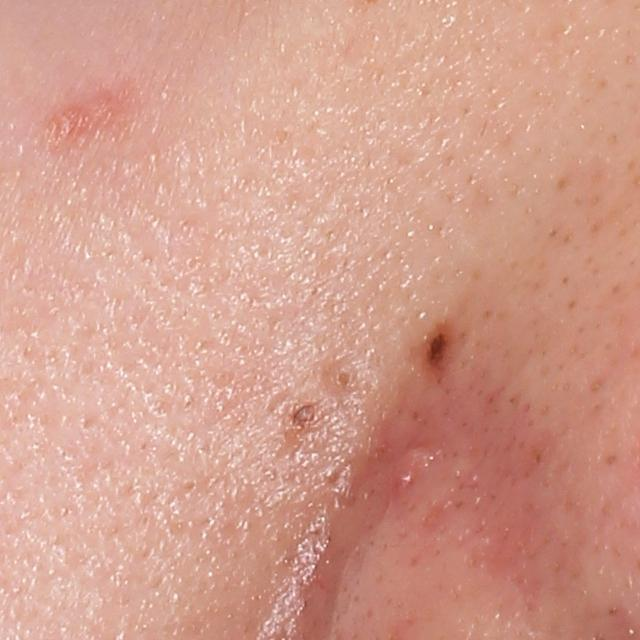comedo: (326, 359, 364, 398), (178, 476, 199, 493)
nevus: (426, 328, 448, 368)
